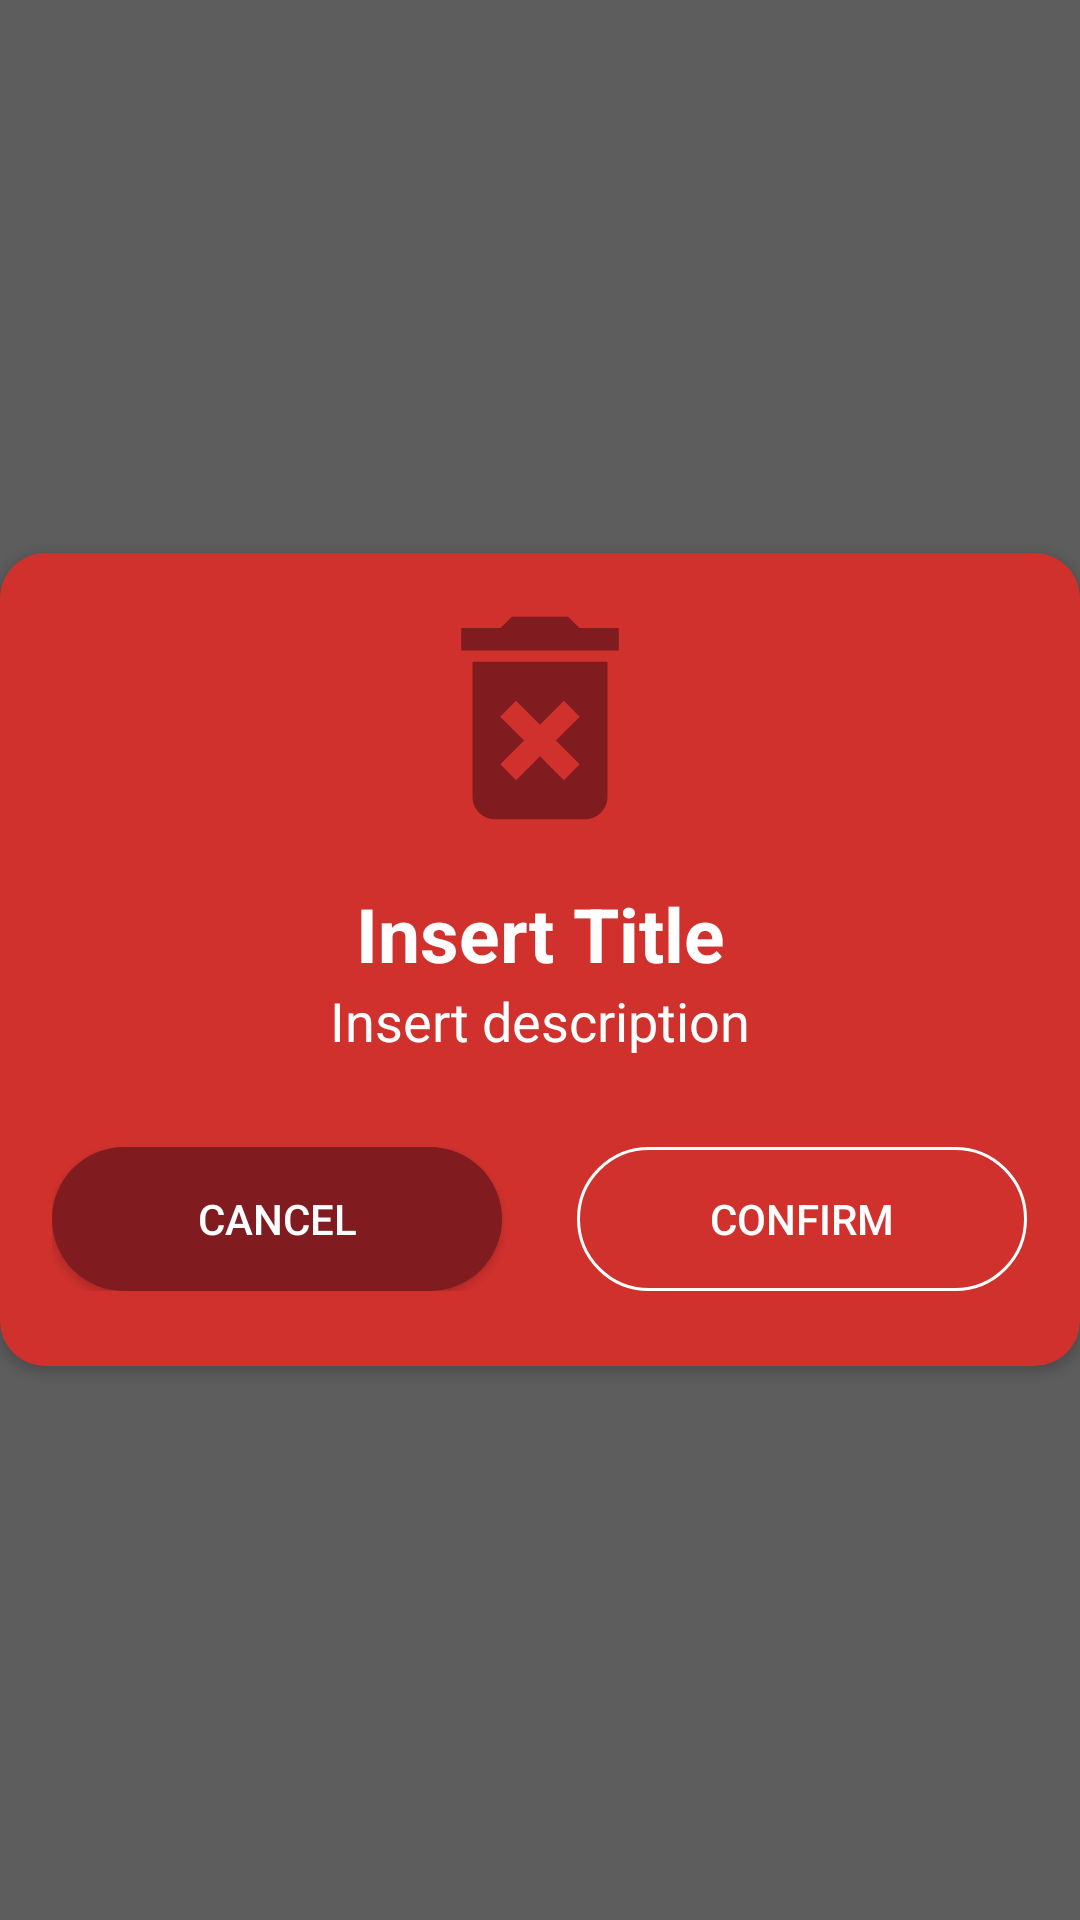

Screen size 1080×1920. Icon name, then its center in pixels as (x=x, y=y):
delete forever: (x=540, y=718)
